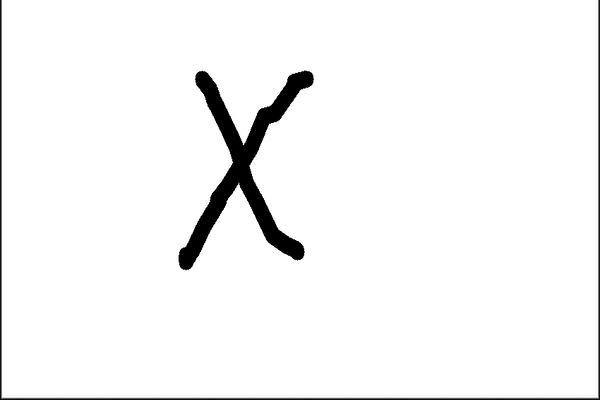X: (154, 47, 344, 292)
